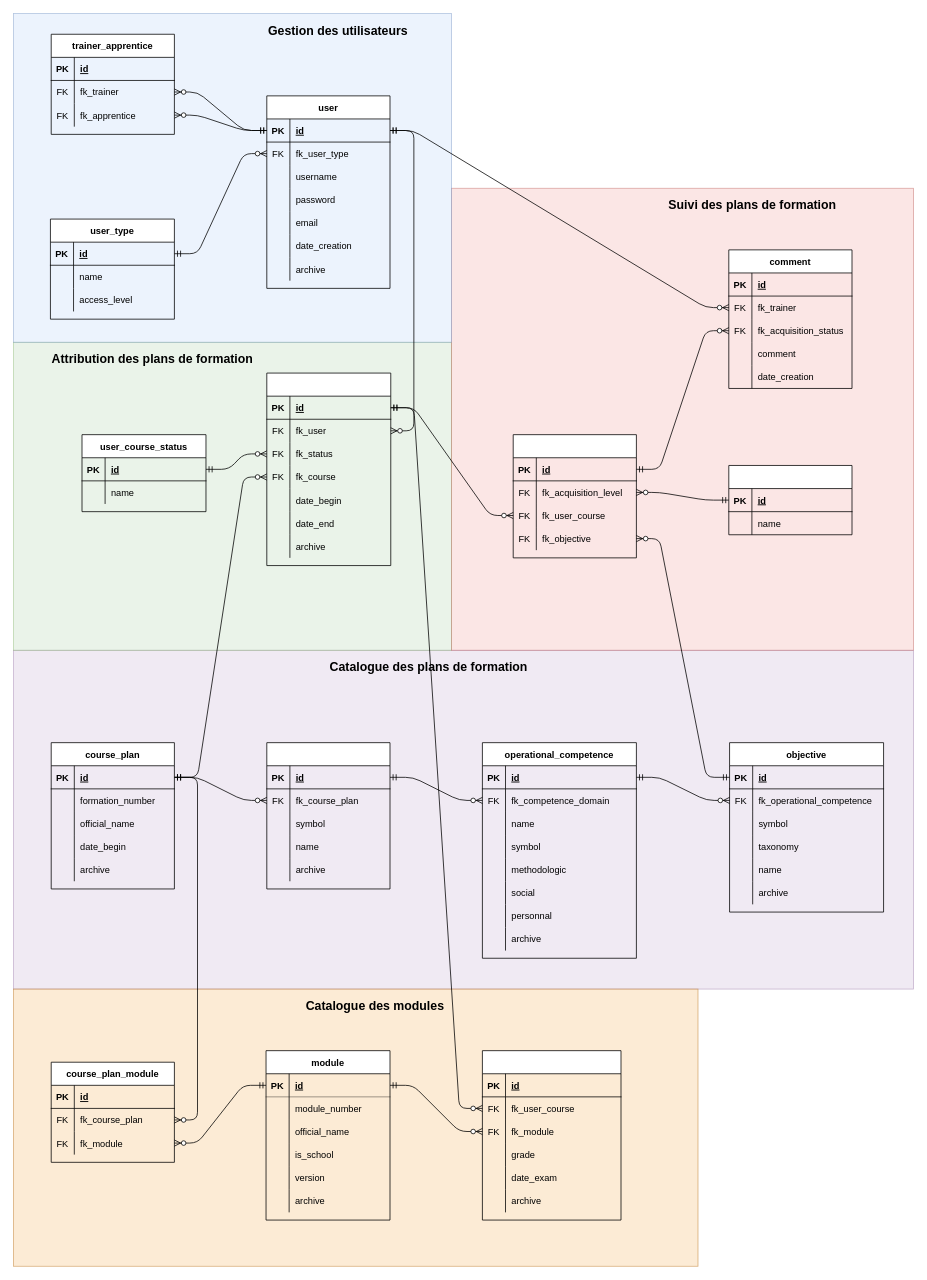
Some shapes in this 927 by 1280 pixel diagram are drawn without their labels. Each missing label, with the box of its shape:
acquisition_level: (728, 465, 852, 535)
acquisition_status: (512, 434, 636, 558)
competence_domain: (266, 742, 390, 889)
user_course: (266, 372, 391, 566)
user_course_module_grade: (482, 1050, 621, 1220)
